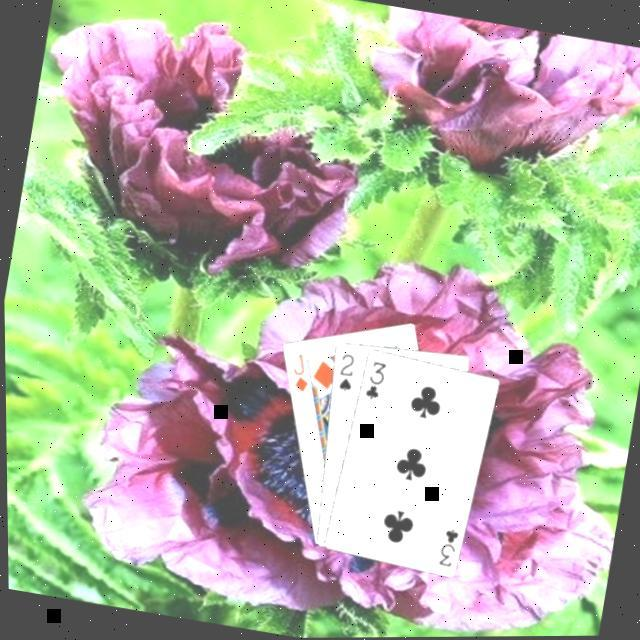2S: (329, 346, 357, 394)
3C: (357, 354, 387, 402), (430, 522, 460, 568)
JD: (282, 347, 312, 394)
